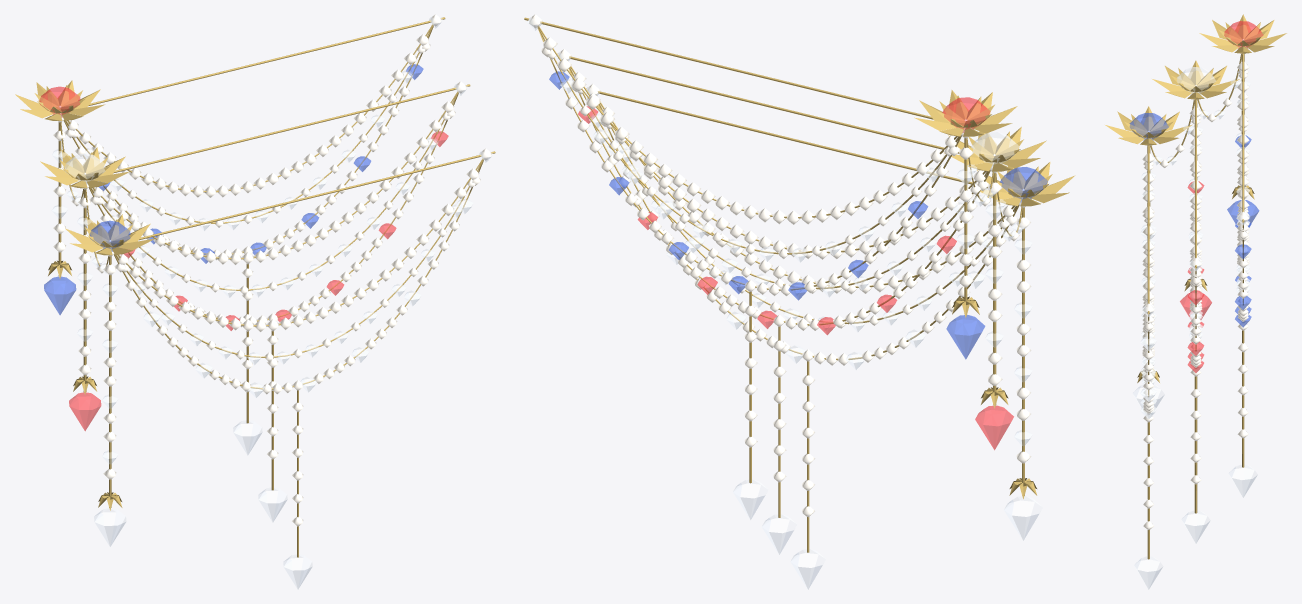
The model's file is ramou.glb.
3 renders of one model, left to right at view 1: azimuth 30°, elevation 25°; view 2: azimuth 150°, elevation 25°; view 3: azimuth 270°, elevation 25°, orthographic. The views are drawn at different scales.
Visible parts, largest first — view 1: pearl_batch, hari_batch, gold_wire, gold_fitting, shuju_batch, lapis_batch; view 2: pearl_batch, hari_batch, gold_wire, gold_fitting, lapis_batch, shuju_batch; view 3: pearl_batch, hari_batch, gold_fitting, gold_wire, lapis_batch, shuju_batch.
Boxes of the visible parts, bbox=[...] form: pearl_batch: bbox=[53, 14, 491, 526]; hari_batch: bbox=[52, 16, 492, 589]; gold_wire: bbox=[58, 17, 495, 557]; gold_fitting: bbox=[15, 80, 154, 510]; shuju_batch: bbox=[39, 86, 448, 430]; lapis_batch: bbox=[44, 64, 423, 314]; pearl_batch: bbox=[528, 14, 1031, 517]; hari_batch: bbox=[527, 16, 1042, 589]; gold_wire: bbox=[524, 17, 1024, 552]; gold_fitting: bbox=[914, 90, 1075, 498]; lapis_batch: bbox=[549, 71, 1047, 359]; shuju_batch: bbox=[578, 97, 1013, 449]; pearl_batch: bbox=[1142, 39, 1249, 529]; hari_batch: bbox=[1133, 46, 1257, 589]; gold_fitting: bbox=[1105, 14, 1286, 382]; gold_wire: bbox=[1147, 53, 1244, 559]; lapis_batch: bbox=[1129, 113, 1259, 327]; shuju_batch: bbox=[1180, 21, 1263, 372].
Size of the model in its own units: 13.72 by 15.63 by 5.44.
